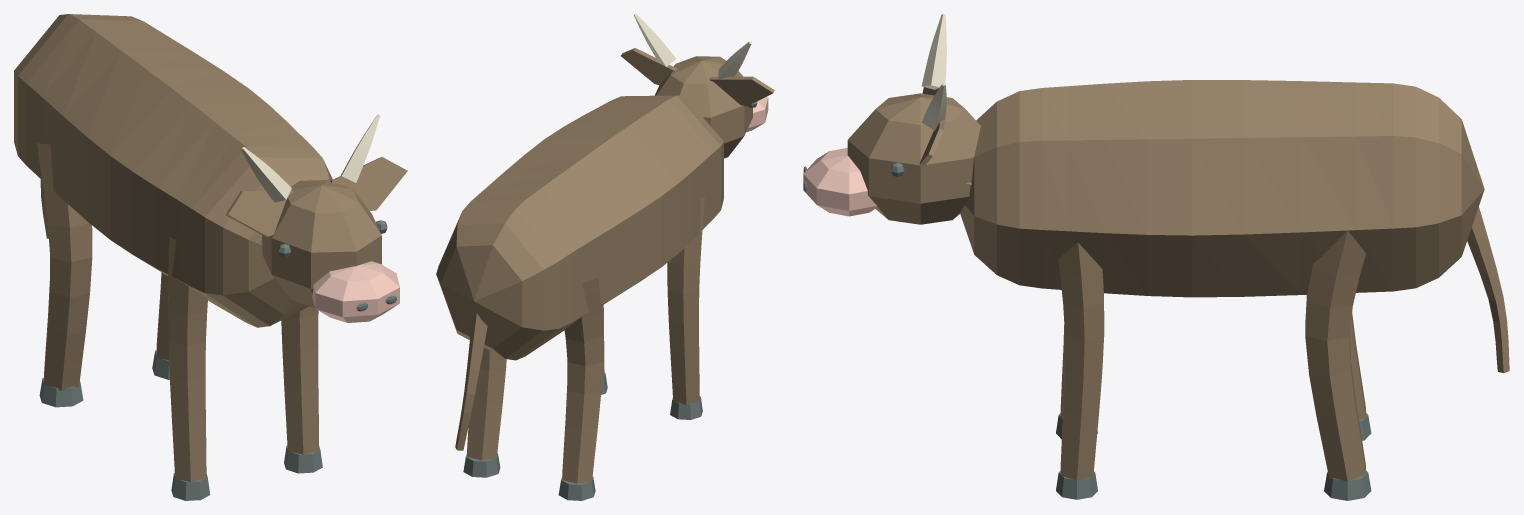
The model's file is bull.glb.
The picture shows the model from 3 angles, left to right: view 1: azimuth 30°, elevation 25°; view 2: azimuth 150°, elevation 25°; view 3: azimuth 270°, elevation 25°; orthographic projection. The views are drawn at different scales.
Visible parts, largest first — view 1: bull; view 2: bull; view 3: bull.
Part boxes in pixels (bbox=[...]): bull: bbox=[14, 14, 407, 500]; bull: bbox=[436, 14, 774, 500]; bull: bbox=[803, 14, 1509, 500].
Size of the model in its own units: 0.8582 by 1.79 by 2.77.
